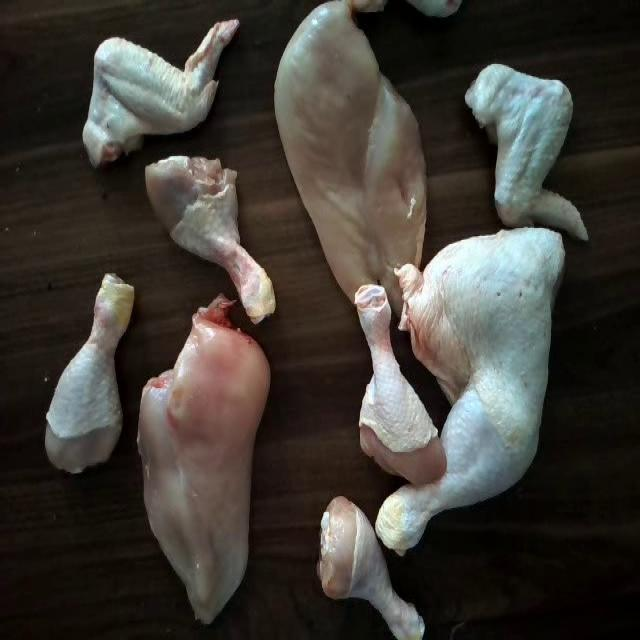breast: (280, 0, 429, 294), (132, 317, 268, 611)
leg: (136, 152, 280, 330), (346, 276, 446, 489), (37, 272, 139, 476), (313, 486, 425, 640)
quater: (387, 226, 563, 562)
wing: (71, 7, 238, 176), (461, 52, 582, 240)
